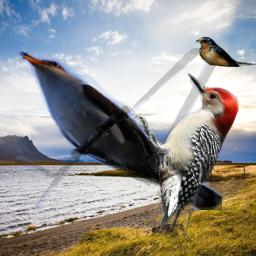Cuckoo: (15, 48, 222, 210)
Swallow: (196, 37, 256, 67)
Woodpecker: (128, 70, 244, 239)
